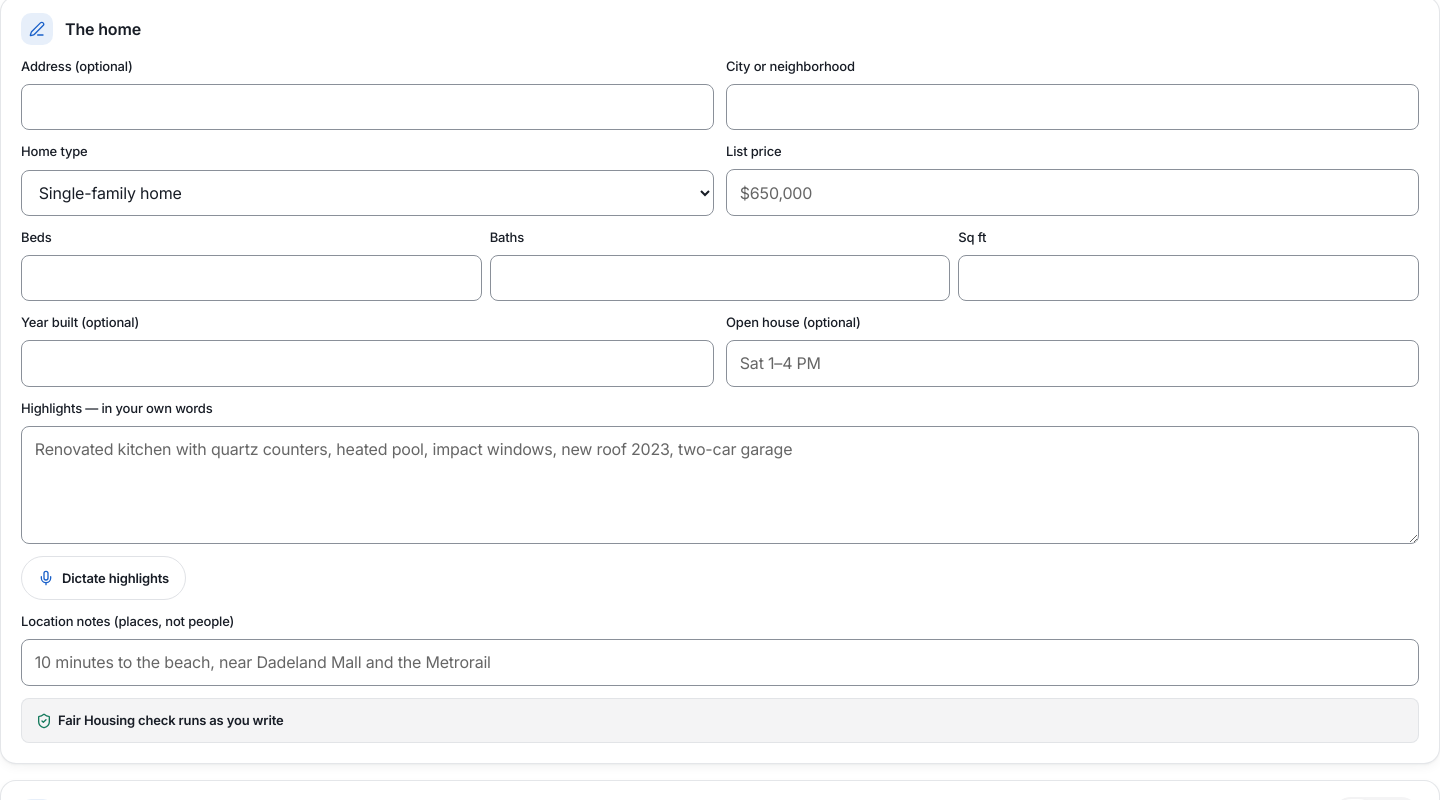
Test case: ListingWriter › shows Fair Housing findings returned by the server
The width and height of the screenshot is (1440, 800).
Type "Doral" into the field labelled "City or neighborhood" at [1072, 107], box [726, 84, 1419, 130]
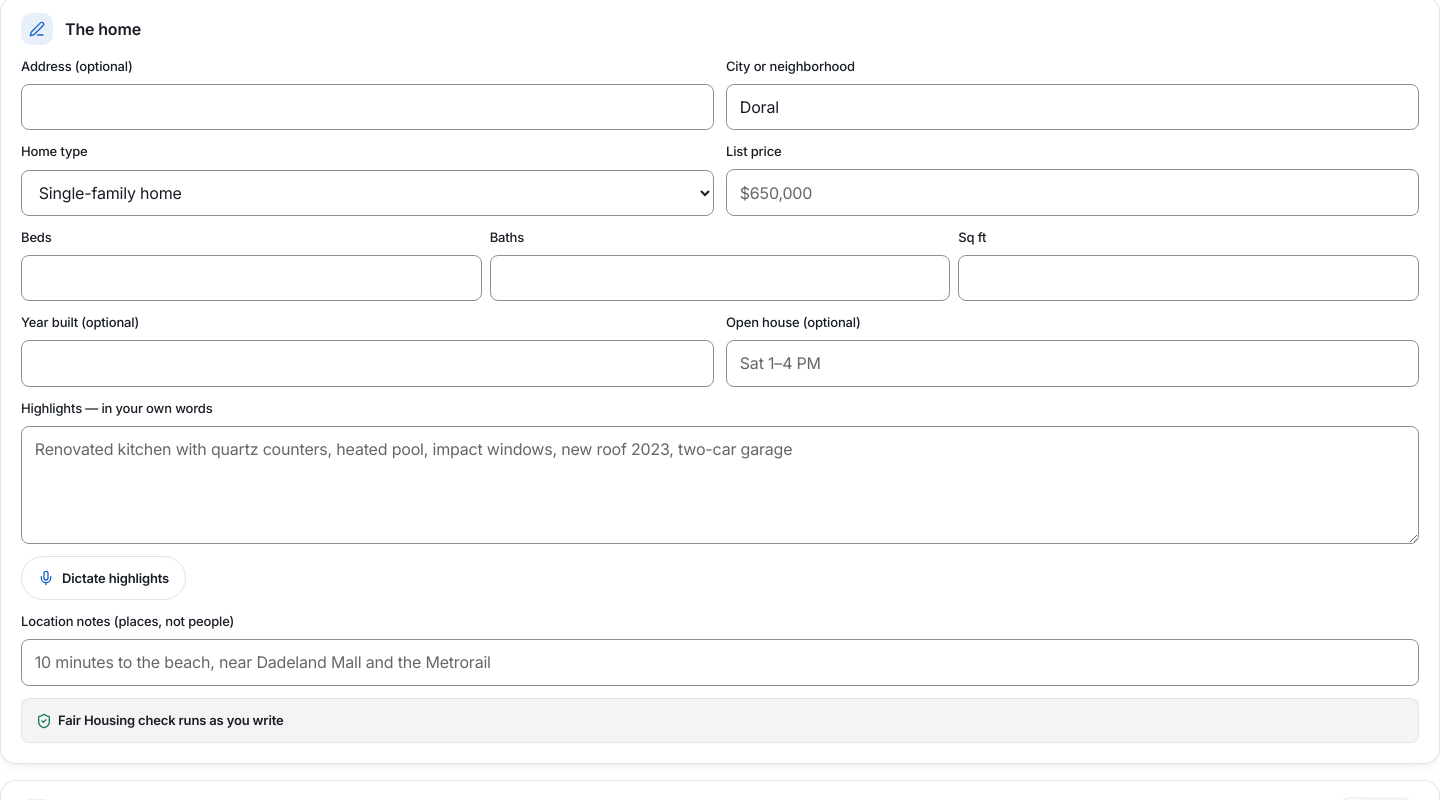
Replace the text in the text box labelled "Highlights — in your own words" with "perfect for families" at [720, 485], box [21, 426, 1419, 544]
(page scrolled)
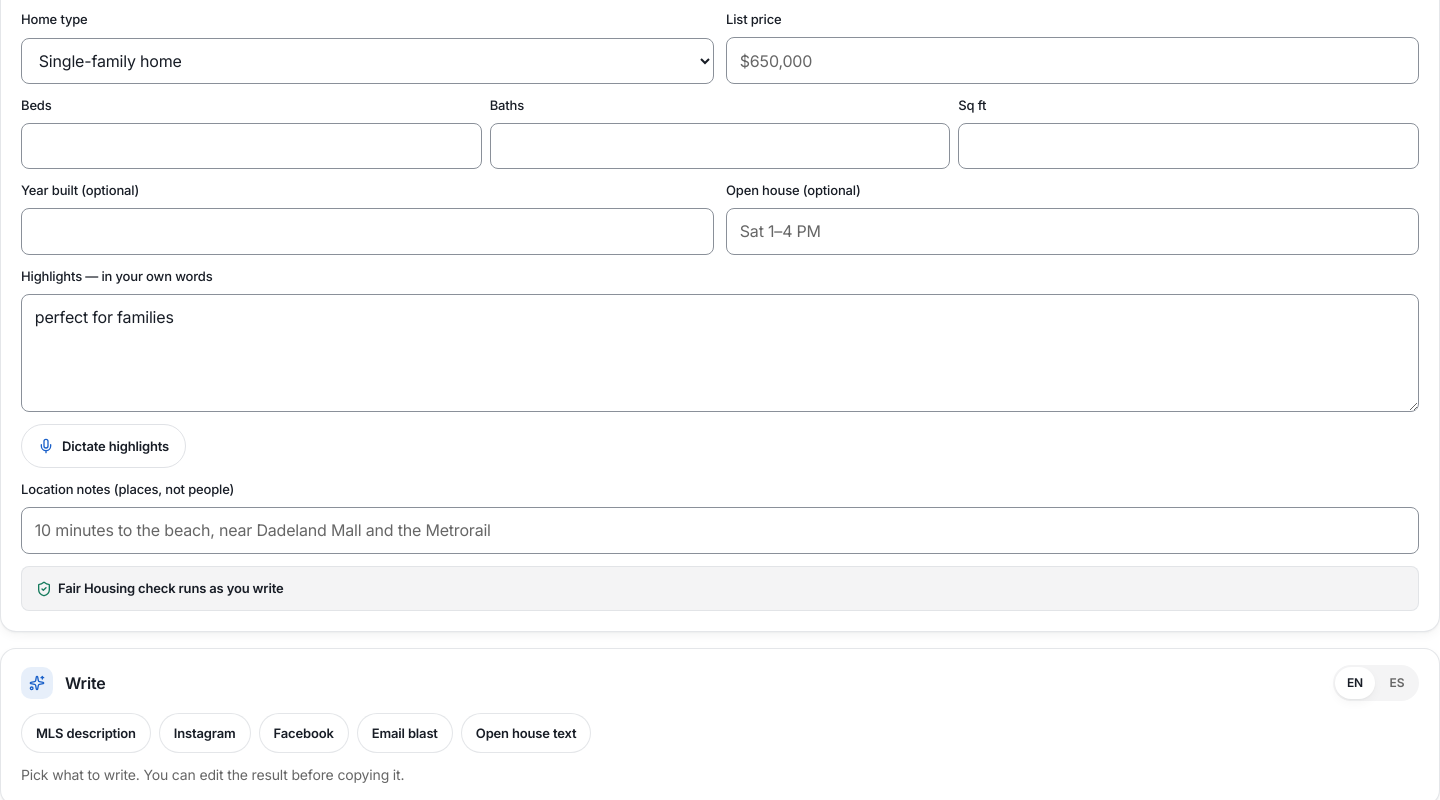
Click the button "MLS description" at [86, 733], box [21, 713, 151, 753]
(page scrolled)
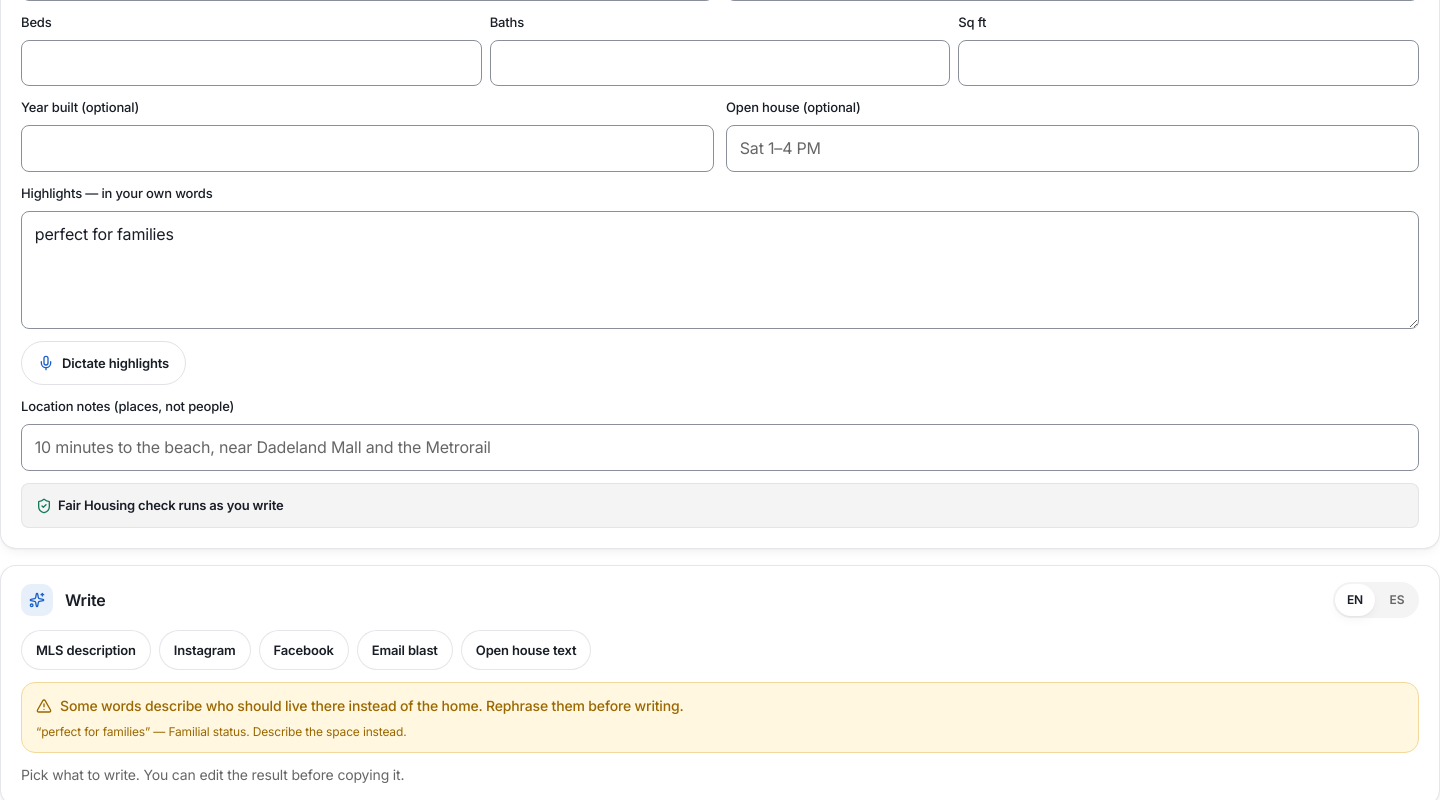
Expected: the message shows "perfect for families", [41, 724, 145, 739]
